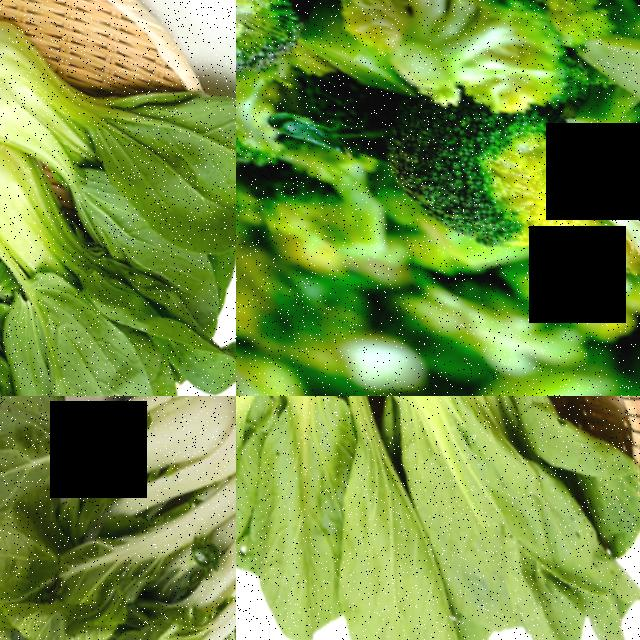bok choy: (0, 0, 236, 244), (316, 396, 640, 569), (0, 155, 194, 396), (236, 396, 369, 640), (0, 396, 192, 562), (7, 526, 236, 640)
broccoli: (341, 69, 610, 275), (327, 0, 595, 119), (565, 117, 640, 294)
